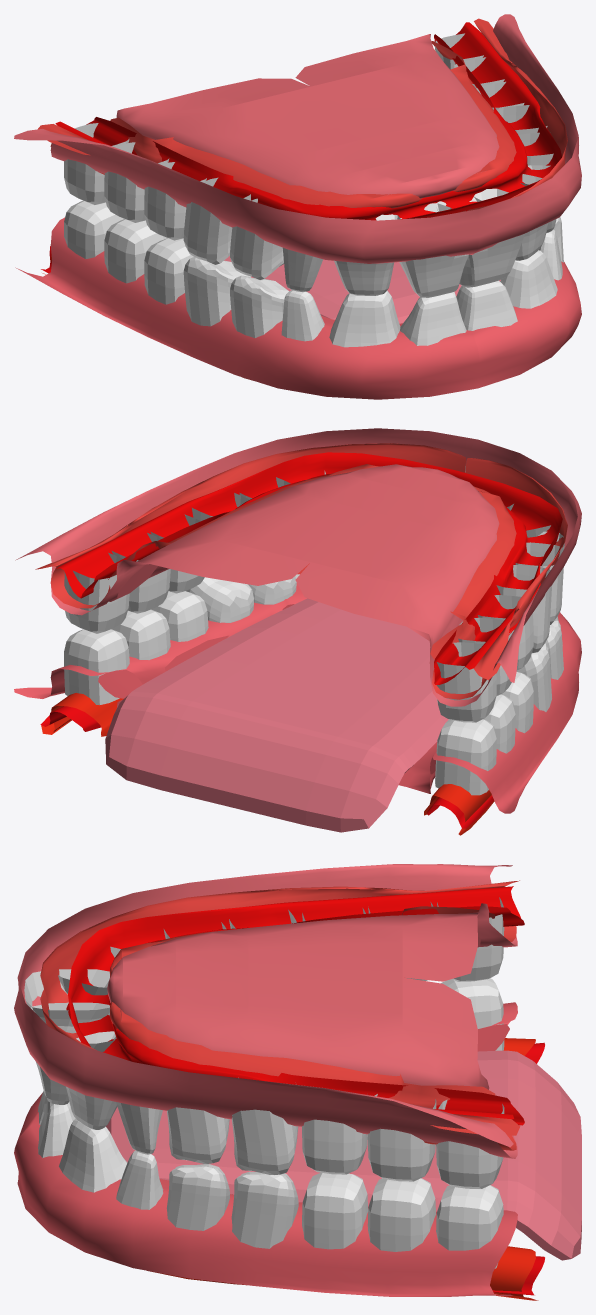
The model's file is Jaw with gum segments.fbx.
3 views of the same model, one above another, from view 1: azimuth 30°, elevation 25°; view 2: azimuth 150°, elevation 25°; view 3: azimuth 270°, elevation 25° (orthographic). The views are drawn at different scales.
Parts seen in each view (by area): view 1: Upper gum, Lower gum canines, Upper gum inner 2, Upper gum inner 1, Incisor 1.001, Incisor2.001, Incisor2, Premolar 2.001, Premolar 1.001, Tongue, Premolar 1, Rear Molar 2.001 (+9 smaller); view 2: Tongue, Upper gum, Upper gum inner 2, Upper gum inner 1, Lower gum canines, Rear Molar 1.001, Rear Molar 1, Premolar 1.001, Rear Molar 2.001, Rear Molar 3.001, Lower gum inner 1, Rear Molar 2 (+7 smaller); view 3: Upper gum, Lower gum canines, Tongue, Upper gum inner 2, Upper gum inner 1, Rear Molar 1.001, Rear Molar 3.001, Premolar 1.001, Rear Molar 2.001, Rear Molar 1, Premolar 1, Premolar 2.001 (+12 smaller).
Part boxes in pixels (bbox=[...]): Upper gum: bbox=[14, 14, 581, 263]; Lower gum canines: bbox=[15, 217, 581, 399]; Upper gum inner 2: bbox=[55, 22, 561, 220]; Upper gum inner 1: bbox=[38, 18, 567, 212]; Incisor 1.001: bbox=[329, 250, 557, 347]; Incisor2.001: bbox=[400, 280, 517, 345]; Incisor2: bbox=[375, 188, 525, 297]; Premolar 2.001: bbox=[230, 217, 563, 337]; Premolar 1.001: bbox=[183, 257, 250, 326]; Tongue: bbox=[224, 256, 500, 323]; Premolar 1: bbox=[183, 105, 547, 264]; Rear Molar 2.001: bbox=[104, 219, 167, 283]; Tongue: bbox=[105, 598, 448, 832]; Upper gum: bbox=[15, 428, 581, 706]; Upper gum inner 2: bbox=[56, 452, 562, 684]; Upper gum inner 1: bbox=[35, 443, 567, 699]; Lower gum canines: bbox=[14, 583, 581, 813]; Rear Molar 1.001: bbox=[64, 629, 496, 795]; Rear Molar 1: bbox=[64, 552, 496, 722]; Premolar 1.001: bbox=[186, 577, 551, 711]; Rear Molar 2.001: bbox=[111, 609, 515, 753]; Rear Molar 3.001: bbox=[151, 591, 533, 733]; Lower gum inner 1: bbox=[41, 693, 494, 835]; Rear Molar 2: bbox=[111, 533, 514, 695]; Upper gum: bbox=[14, 864, 517, 1158]; Lower gum canines: bbox=[14, 1002, 517, 1296]; Tongue: bbox=[106, 1050, 581, 1260]; Upper gum inner 2: bbox=[66, 886, 524, 1125]; Upper gum inner 1: bbox=[40, 880, 520, 1150]; Rear Molar 1.001: bbox=[436, 978, 504, 1268]; Rear Molar 3.001: bbox=[302, 1172, 368, 1249]; Premolar 1.001: bbox=[231, 1171, 298, 1248]; Rear Molar 2.001: bbox=[367, 1178, 435, 1251]; Rear Molar 1: bbox=[436, 897, 504, 1188]; Premolar 1: bbox=[229, 909, 298, 1174]; Premolar 2.001: bbox=[166, 1164, 229, 1230].
Size of the model in its own units: 344 by 125 by 294.
